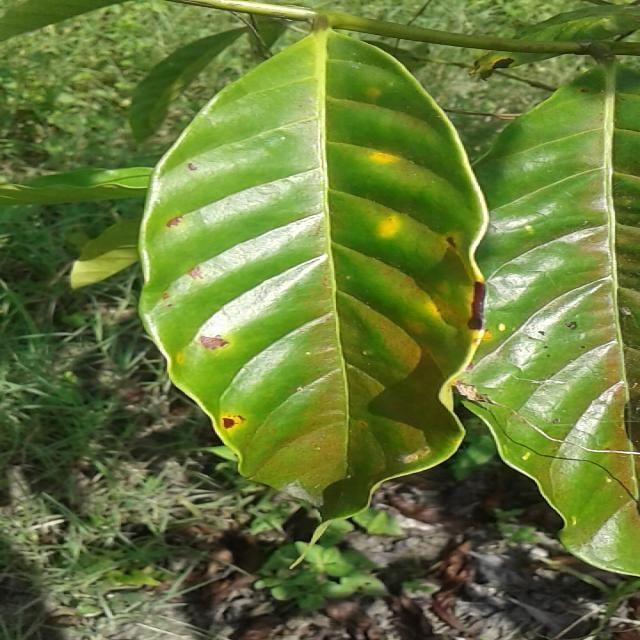Enfermedad-Roya: (136, 36, 490, 524)
